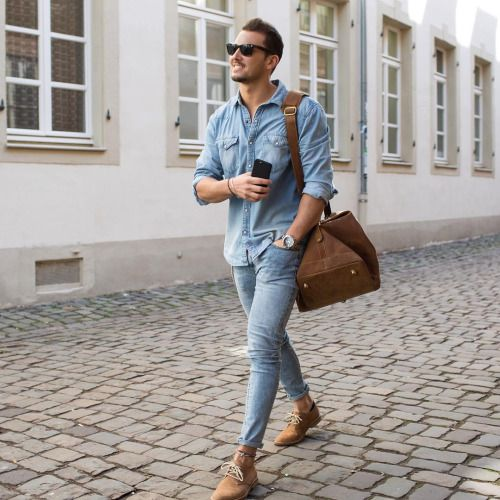person: (180, 15, 376, 500)
